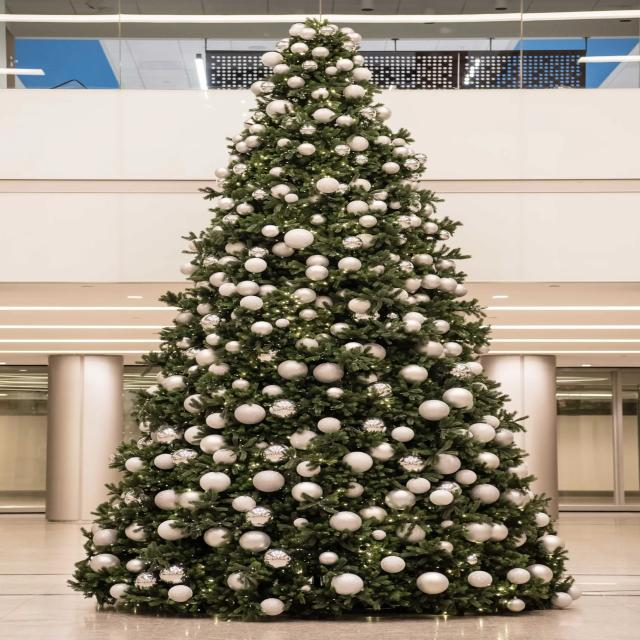Christmas-tree: (90, 19, 582, 615)
